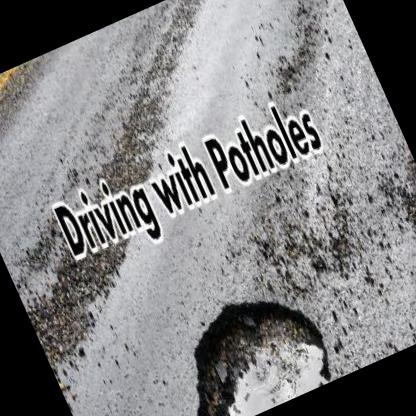pothole: (150, 268, 340, 416)
